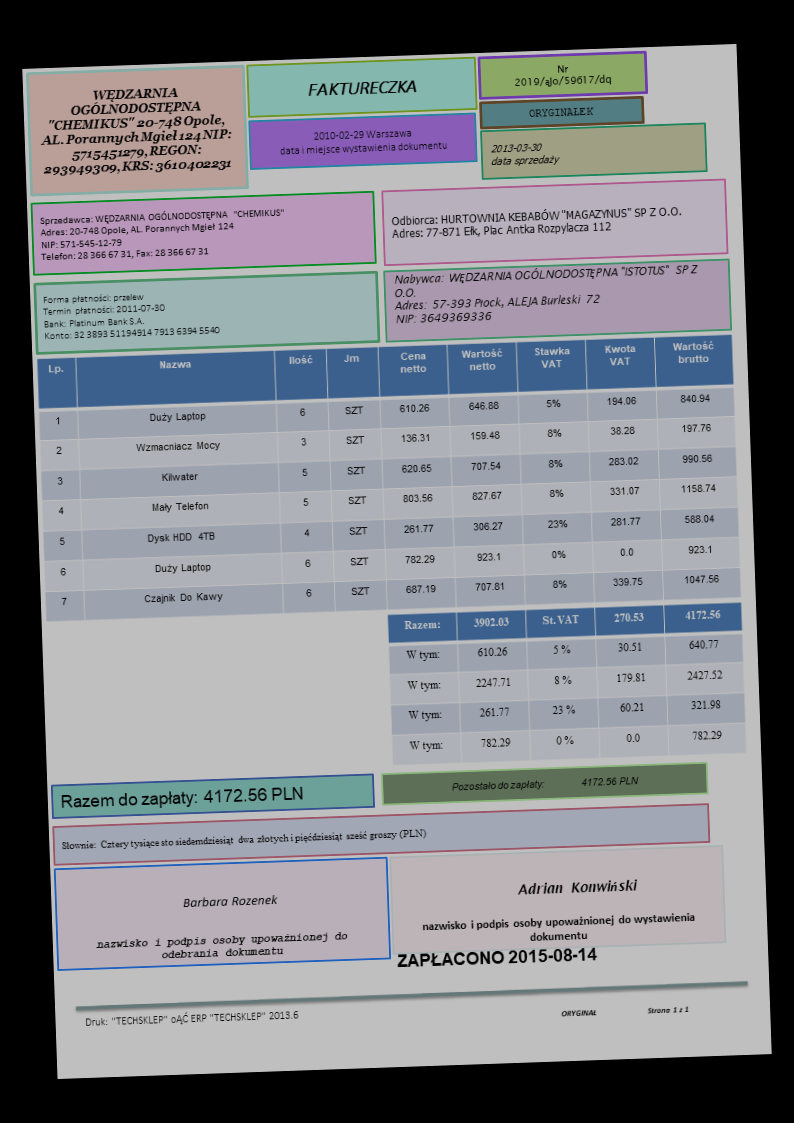Table: (34, 333, 743, 625), (385, 600, 749, 767)
TextBox: (390, 260, 702, 327), (37, 83, 237, 180), (36, 205, 289, 266), (388, 202, 685, 243), (59, 825, 428, 855), (419, 908, 701, 947), (41, 286, 220, 342), (95, 926, 351, 964), (59, 781, 306, 813), (276, 122, 449, 159), (393, 942, 597, 971), (81, 1005, 303, 1030), (448, 772, 640, 796), (512, 60, 615, 91), (305, 75, 419, 99), (514, 877, 639, 898), (559, 1001, 692, 1020), (488, 137, 562, 171), (179, 891, 282, 911), (525, 102, 597, 120)
